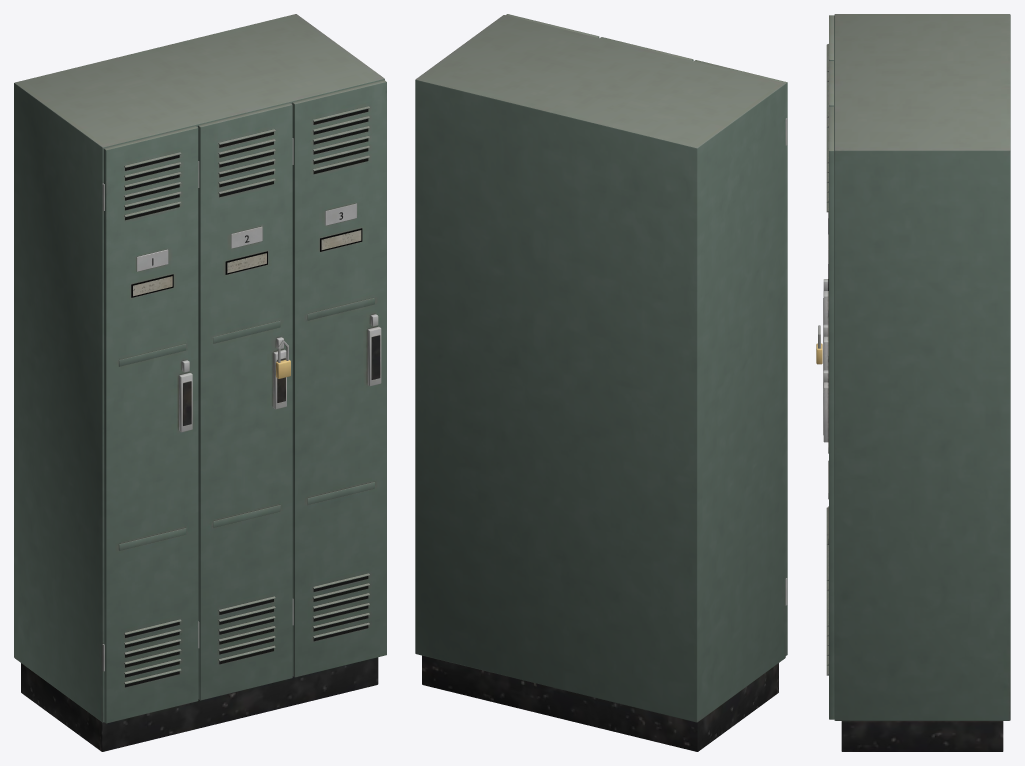
Rendered from armario_vestiario.glb.
3 views of the same model, side by side, from view 1: azimuth 30°, elevation 25°; view 2: azimuth 150°, elevation 25°; view 3: azimuth 270°, elevation 25° (orthographic).
Visible parts, largest first — view 1: carcaca, porta_1, porta_3, porta_2; view 2: carcaca, porta_1; view 3: carcaca, porta_3, porta_2, porta_1.
Part boxes in pixels (x1,y1,x2,y2): carcaca: (14,14,384,751); porta_1: (103,126,198,723); porta_3: (292,80,386,677); porta_2: (198,103,292,700); carcaca: (415,15,787,751); porta_1: (694,60,787,655); carcaca: (834,14,1010,751); porta_3: (823,106,834,719); porta_2: (816,61,834,598); porta_1: (823,15,834,552).
Size of the model in its own units: 0.901 by 1.85 by 0.54.
Materials: 2 (2 with a texture image).
